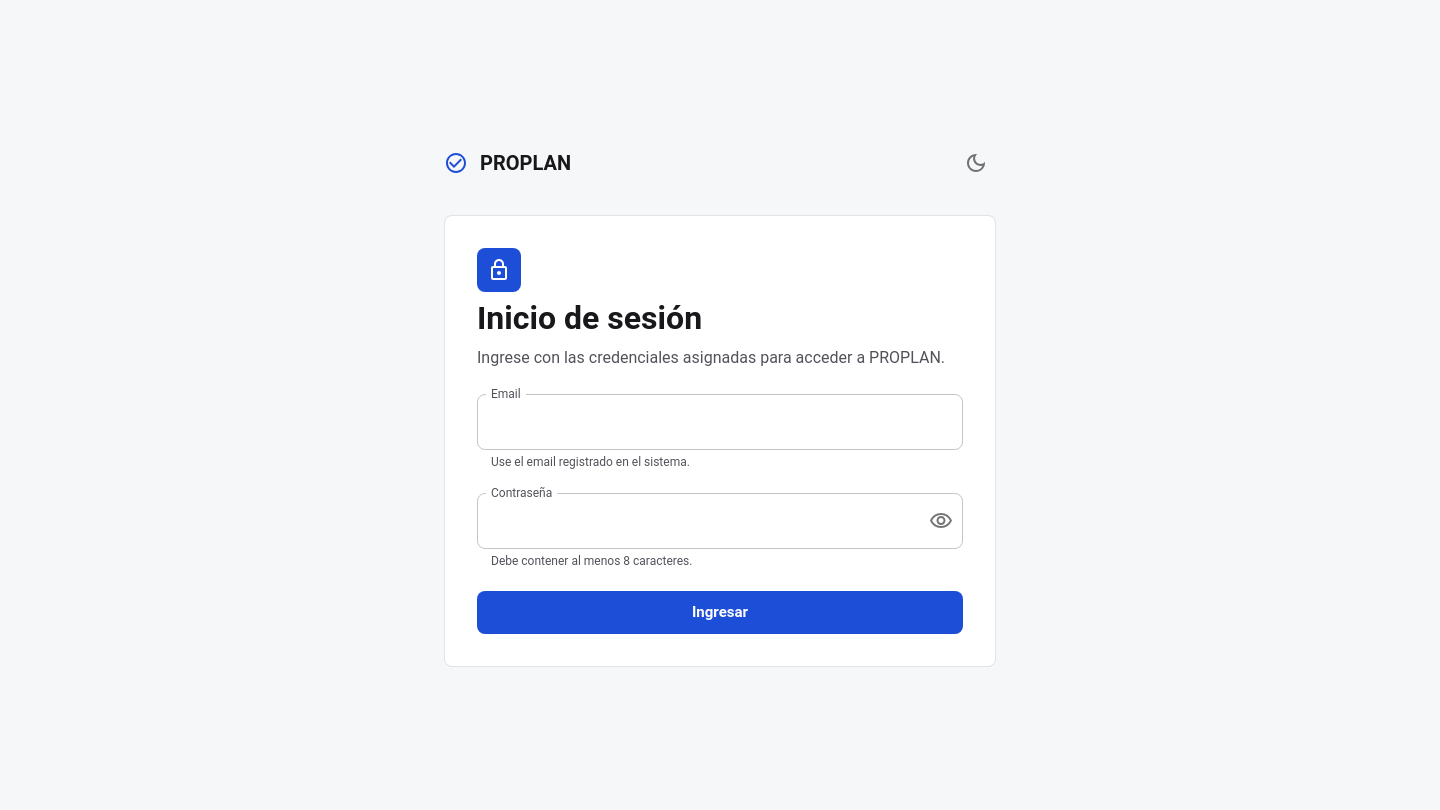
Scenario: App authentication flow › toggles the visual theme and keeps the preference
This screenshot has width=1440, height=810.
Click the button named "Cambiar a tema oscuro".
click(976, 163)  # box [956, 143, 996, 183]
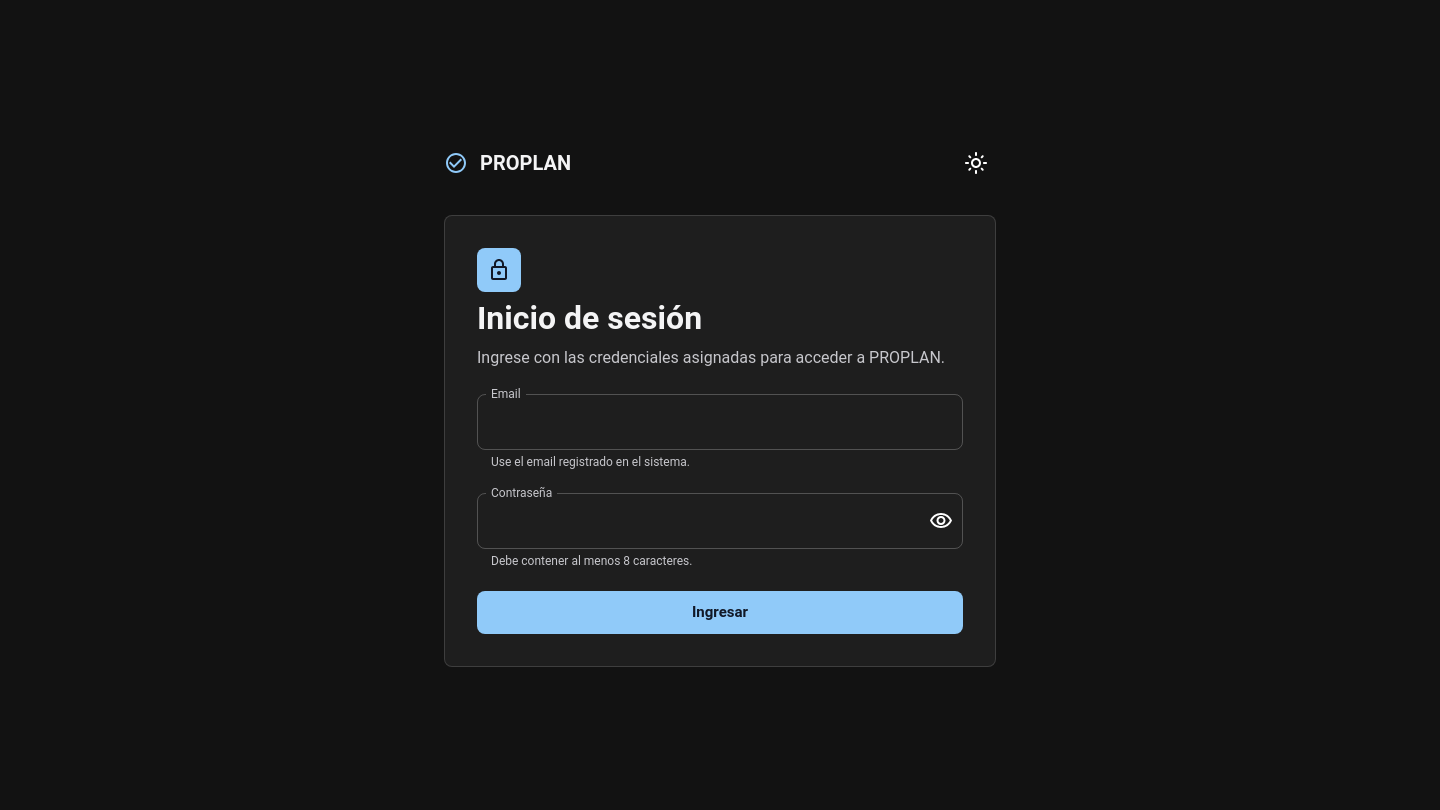
Expected: the button named "Cambiar a tema claro" is shown, [956, 143, 996, 183]
